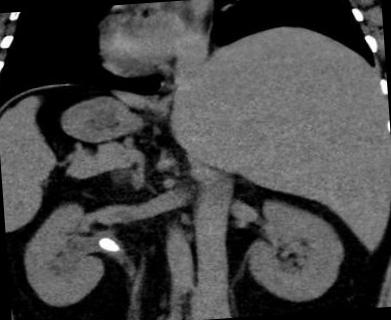Tas_Var: (96, 234, 124, 256)
